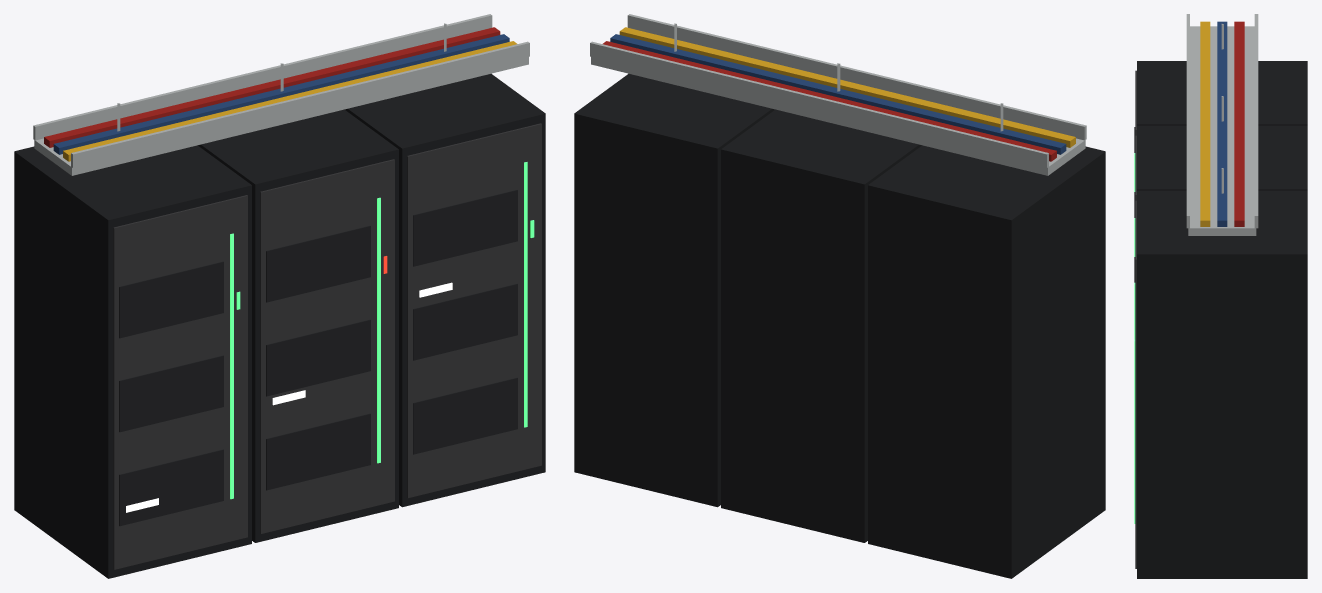
The model's file is server_row.glb.
The picture shows the model from 3 angles, left to right: view 1: azimuth 30°, elevation 25°; view 2: azimuth 150°, elevation 25°; view 3: azimuth 270°, elevation 25°; orthographic projection. The views are drawn at different scales.
Visible parts, largest first — view 1: server_row; view 2: server_row; view 3: server_row.
Boxes of the visible parts, x1,y1,x2,y2 form: server_row: (14, 14, 545, 578); server_row: (574, 14, 1105, 578); server_row: (1134, 14, 1307, 578).
Bounding box in the file's own units: 2.8 × 2.5 × 1.02.
1 material, 1 textured.
